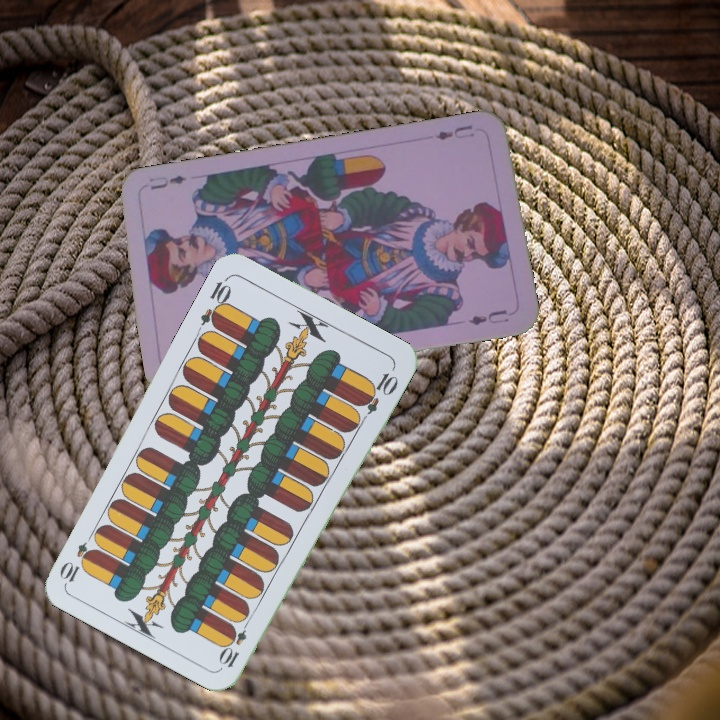E10: (196, 273, 235, 331), (217, 614, 253, 670)
EU: (431, 121, 477, 143)
